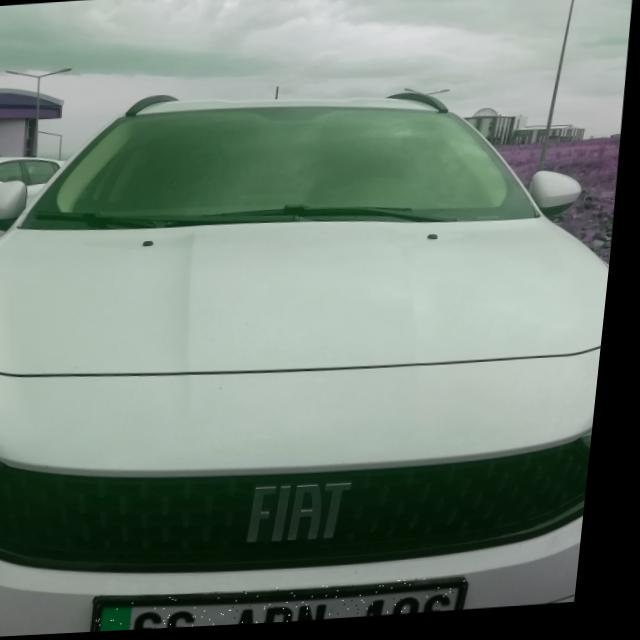license_plate: (108, 579, 479, 633)
